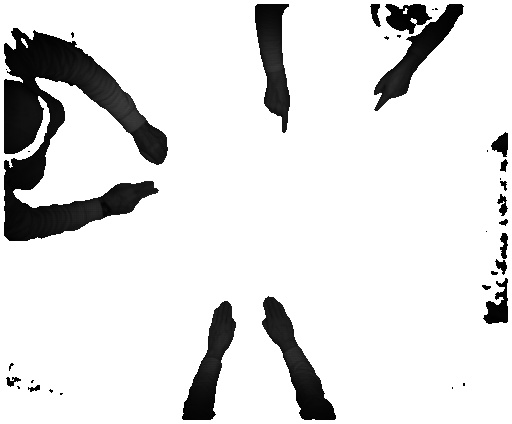fist: (137, 127, 167, 167)
hand: (108, 177, 159, 223), (200, 296, 239, 354), (256, 296, 298, 346), (368, 66, 414, 111), (264, 84, 295, 135)
